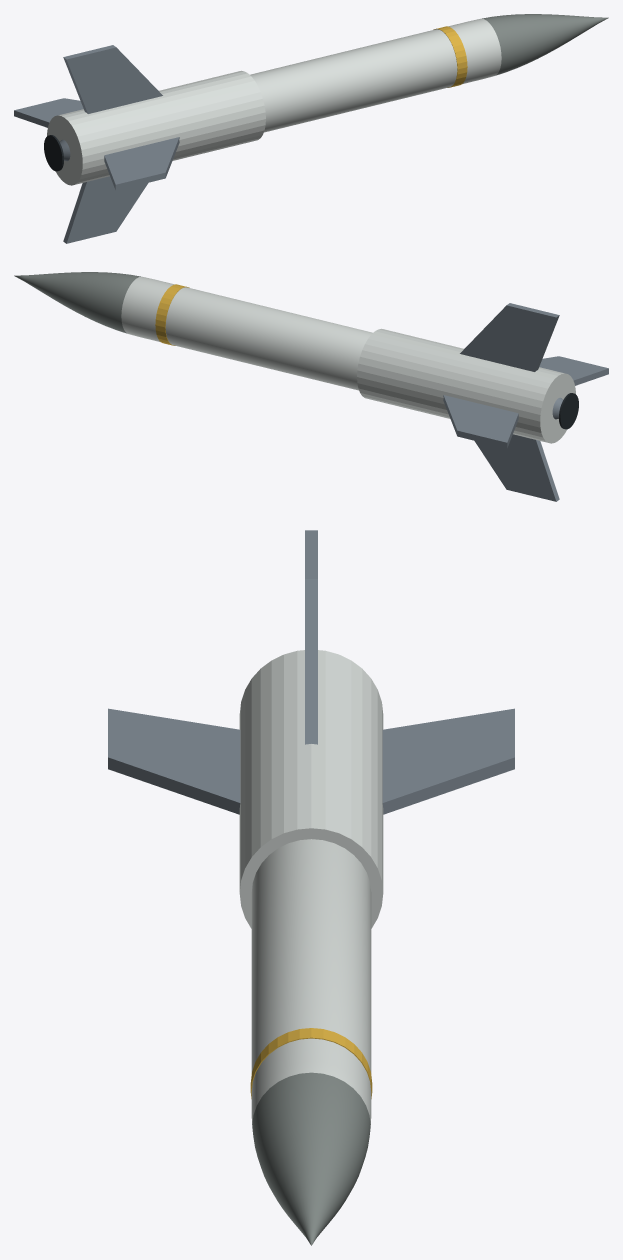
File: rgm_139_vla.glb
3 renders of one model, top to bottom at view 1: azimuth 30°, elevation 25°; view 2: azimuth 150°, elevation 25°; view 3: azimuth 270°, elevation 25°, orthographic. The views are drawn at different scales.
Visible parts, largest first — view 1: rgm_139_vla; view 2: rgm_139_vla; view 3: rgm_139_vla.
Part boxes in pixels (x1,y1,x2,y2): rgm_139_vla: (14, 14, 608, 243); rgm_139_vla: (14, 272, 608, 501); rgm_139_vla: (108, 530, 514, 1245).
Bounding box in the file's own units: 10 × 3.17 × 3.17.
